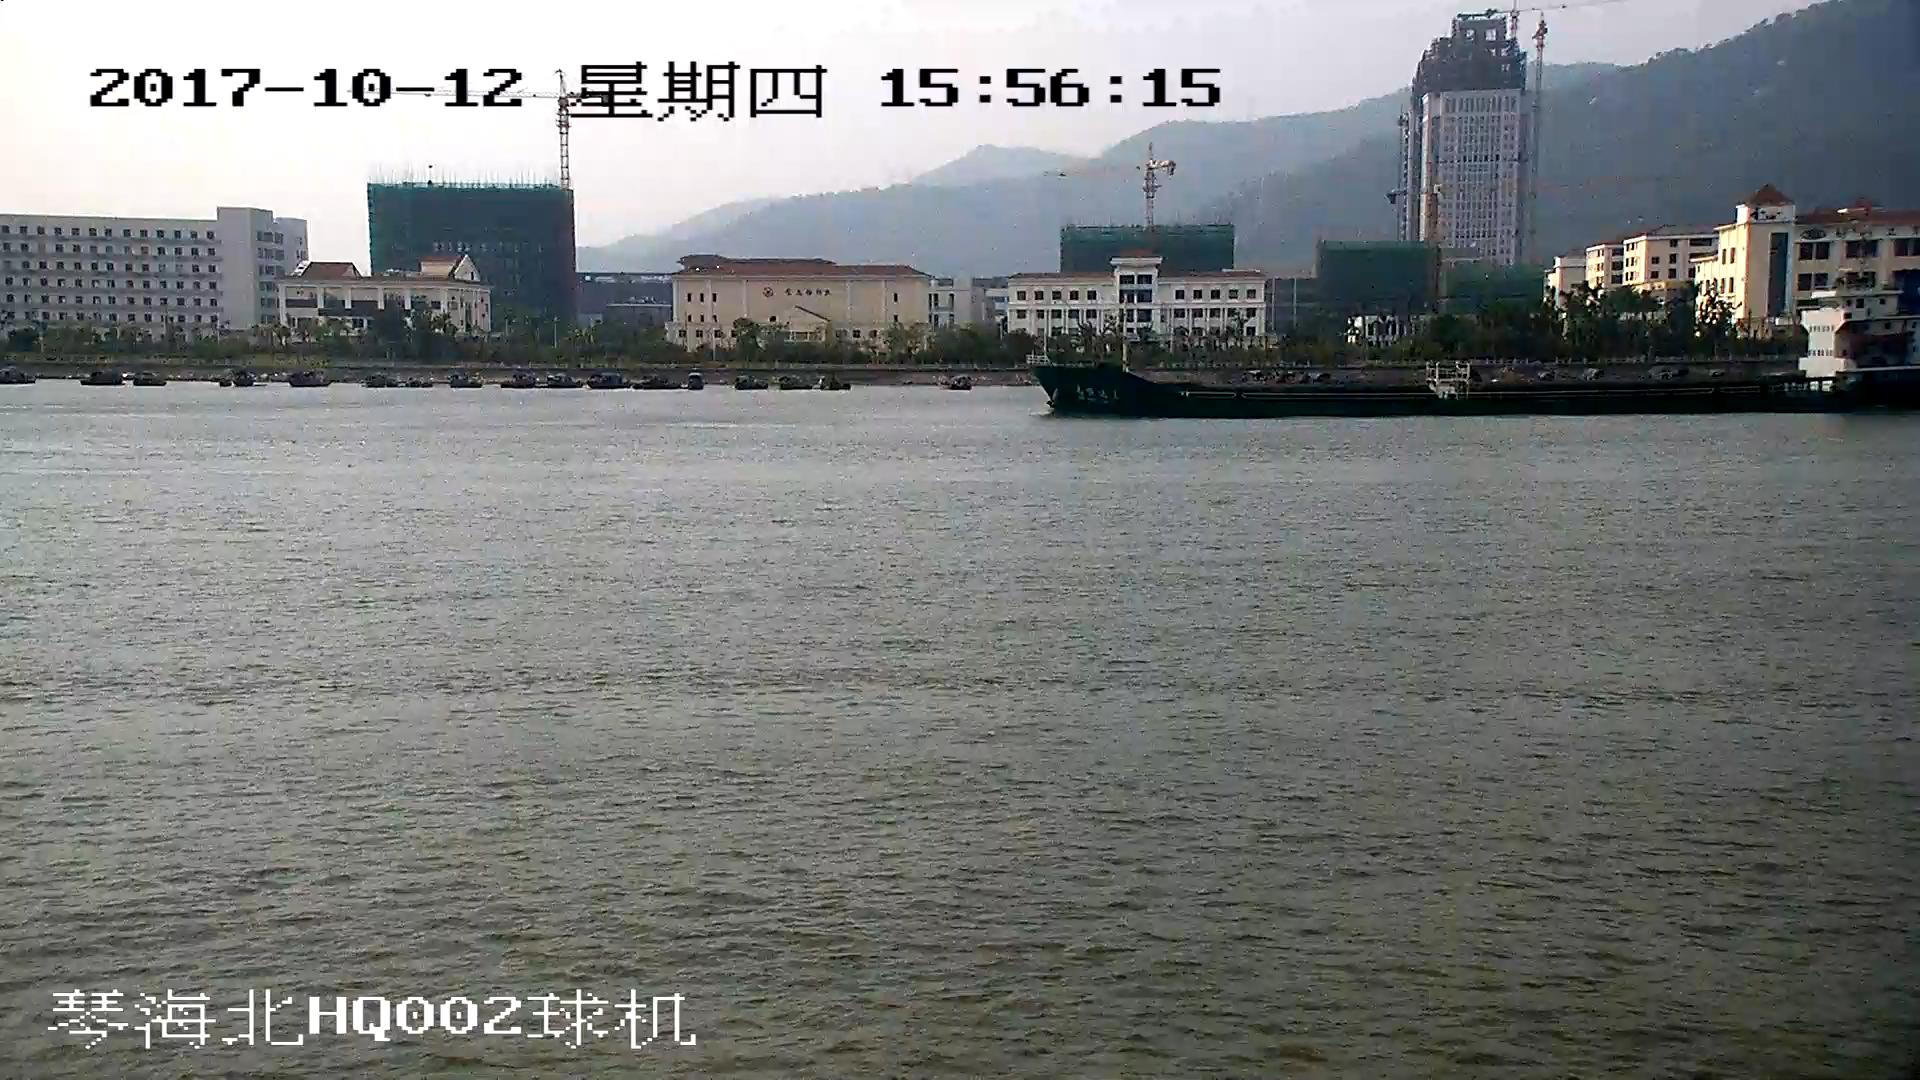general cargo ship: (1024, 285, 1920, 416)
